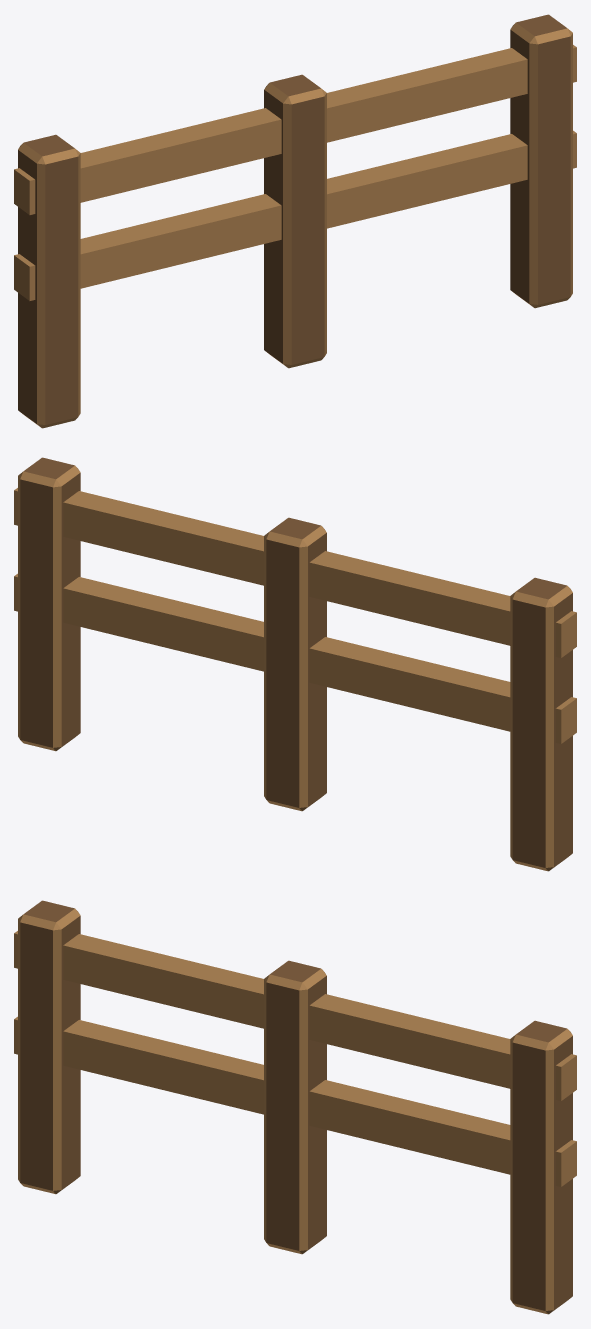
File: fence.glb
3 views of the same model, one above another, from view 1: azimuth 30°, elevation 25°; view 2: azimuth 150°, elevation 25°; view 3: azimuth 330°, elevation 25° (orthographic).
Parts seen in each view (by area): view 1: fence_prop; view 2: fence_prop; view 3: fence_prop.
Boxes of the visible parts, x1=… form: fence_prop: x1=14, y1=14, x2=576, y2=428; fence_prop: x1=14, y1=457, x2=576, y2=871; fence_prop: x1=14, y1=900, x2=576, y2=1314.
Bounding box in the file's own units: 2 × 0.95 × 0.16.
